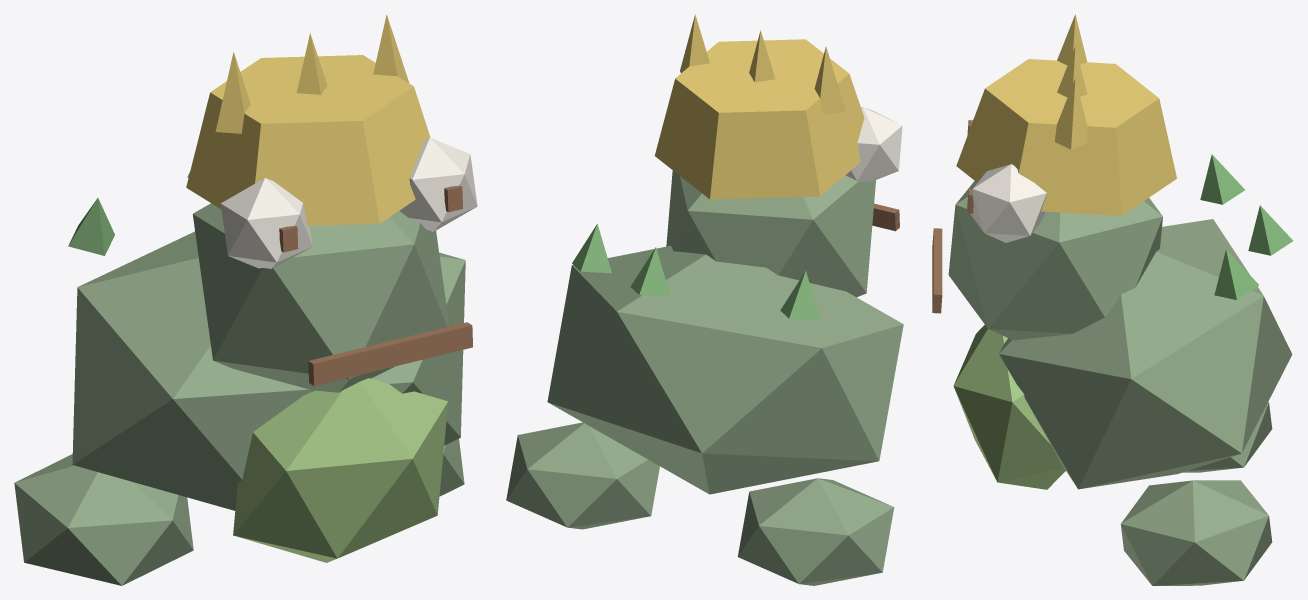
Rendered from npcpose_toad_king_attack_08.glb.
3 renders of one model, left to right at view 1: azimuth 30°, elevation 25°; view 2: azimuth 150°, elevation 25°; view 3: azimuth 270°, elevation 25°, orthographic. The views are drawn at different scales.
Visible parts, largest first — view 1: npcpose; view 2: npcpose; view 3: npcpose.
Part boxes in pixels (x1,y1,x2,y2): npcpose: (14, 14, 477, 585); npcpose: (506, 14, 903, 585); npcpose: (932, 14, 1292, 585).
Bounding box in the file's own units: 1.75 × 2.2 × 1.49.
